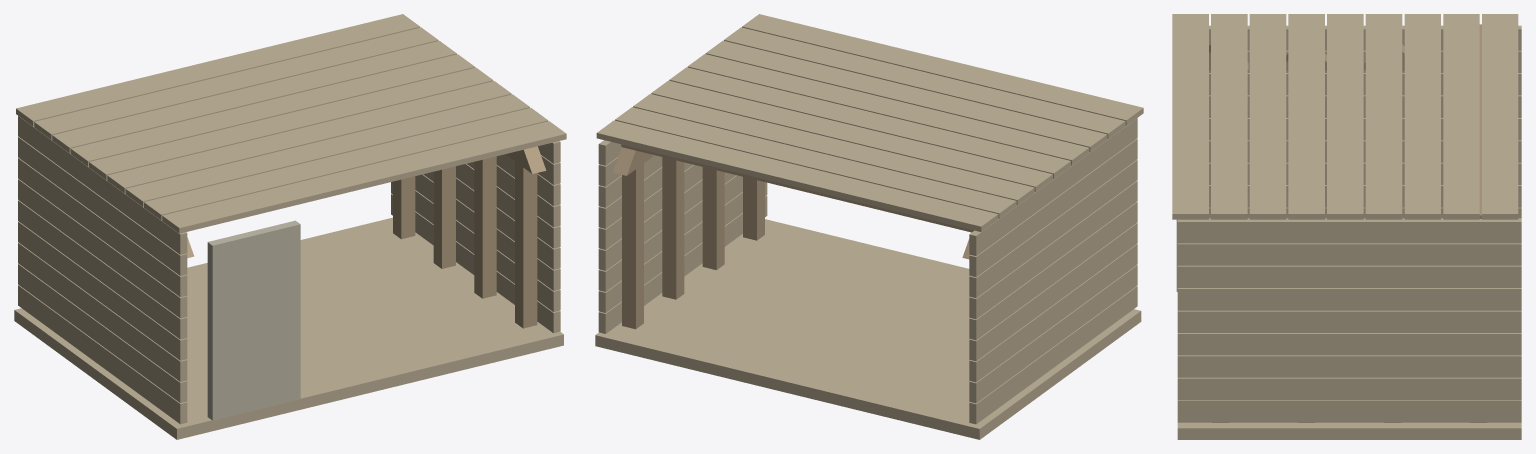
The model's file is trench-line-1917-dugout-interior-3c7cf211__24067.glb.
3 views of the same model, side by side, from view 1: azimuth 30°, elevation 25°; view 2: azimuth 150°, elevation 25°; view 3: azimuth 270°, elevation 25° (orthographic). The views are drawn at different scales.
Parts seen in each view (by area): view 1: dugout-interior; view 2: dugout-interior; view 3: dugout-interior.
Boxes of the visible parts, x1,y1,x2,y2 form: dugout-interior: (14,14,566,439); dugout-interior: (595,14,1143,439); dugout-interior: (1172,14,1521,439).
Size of the model in its own units: 4.4 by 2.32 by 3.25.
